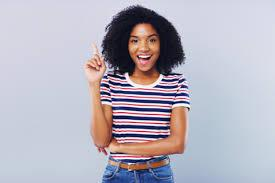Persons: (100, 10, 189, 78)
